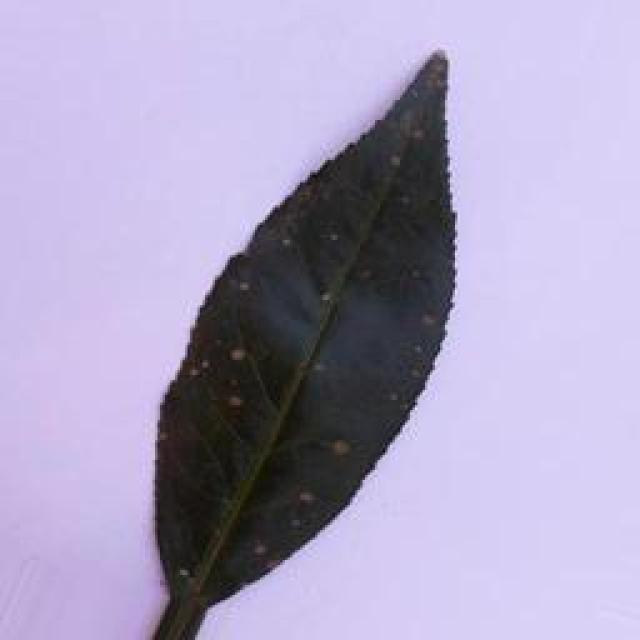Algal Leaf Spot: (132, 47, 462, 640)
